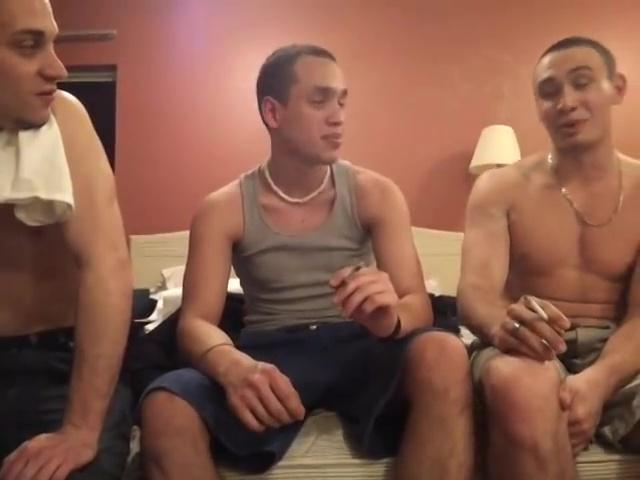cigarette: (336, 261, 362, 291), (525, 294, 551, 323)
